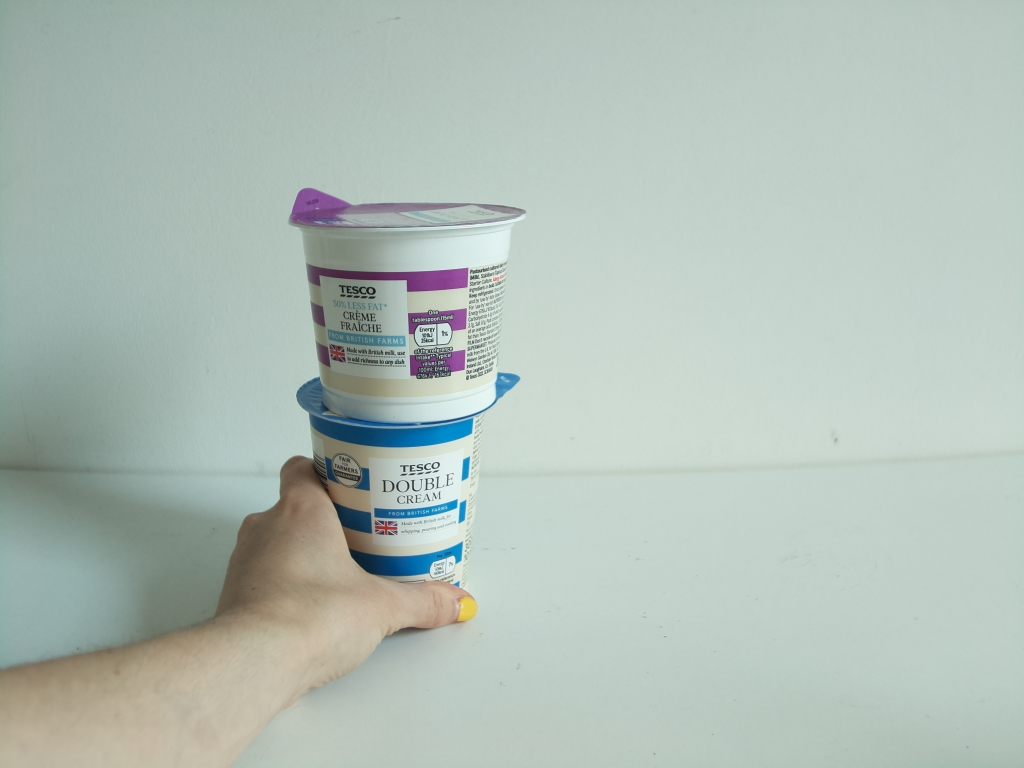cream: (294, 187, 538, 419), (298, 368, 526, 582)
